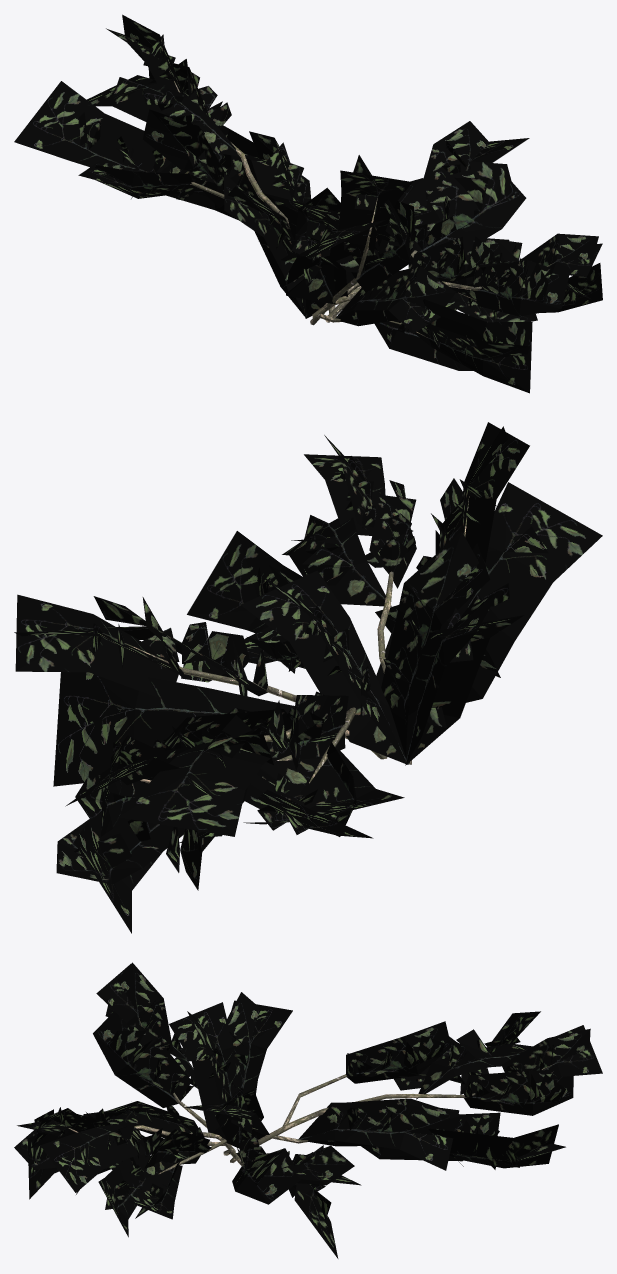
Rendered from SM_Bush_Small_01.fbx.
3 views of the same model, one above another, from view 1: azimuth 30°, elevation 25°; view 2: azimuth 150°, elevation 25°; view 3: azimuth 270°, elevation 25° (orthographic). The views are drawn at different scales.
Visible parts, largest first — view 1: SM_Bush_Small_01; view 2: SM_Bush_Small_01; view 3: SM_Bush_Small_01.
Part boxes in pixels (<box>): SM_Bush_Small_01: <box>14,14,602,393</box>; SM_Bush_Small_01: <box>14,422,602,933</box>; SM_Bush_Small_01: <box>14,962,602,1258</box>.
Bounding box in the file's own units: 195 × 295 × 113.
2 materials, 2 textured.
